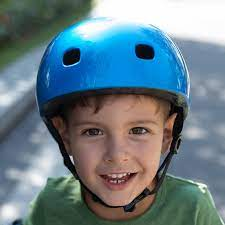helmets: (33, 15, 191, 119)
